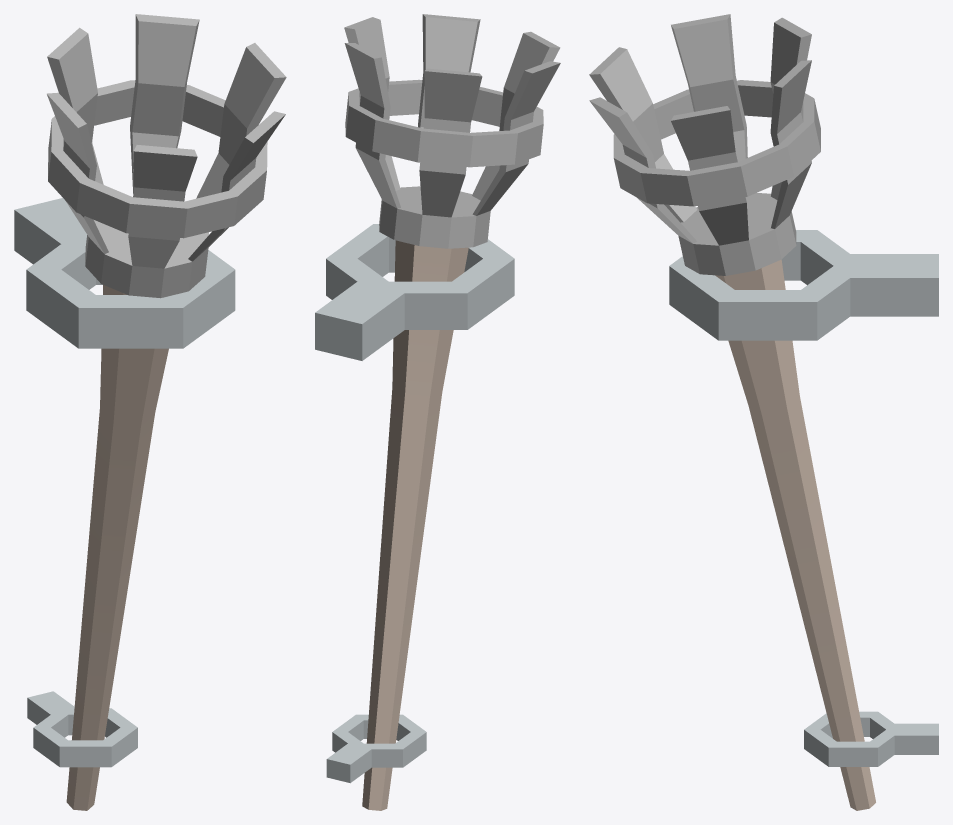
The model's file is prop_wall_torch.glb.
3 renders of one model, left to right at view 1: azimuth 30°, elevation 25°; view 2: azimuth 150°, elevation 25°; view 3: azimuth 270°, elevation 25°, orthographic. The views are drawn at different scales.
Parts seen in each view (by area): view 1: prop_wall_torch; view 2: prop_wall_torch; view 3: prop_wall_torch.
Part boxes in pixels (x1,y1,x2,y2): prop_wall_torch: (14, 14, 286, 810); prop_wall_torch: (315, 14, 560, 810); prop_wall_torch: (589, 14, 938, 810).
Bounding box in the file's own units: 0.1333 × 0.4918 × 0.2051.
